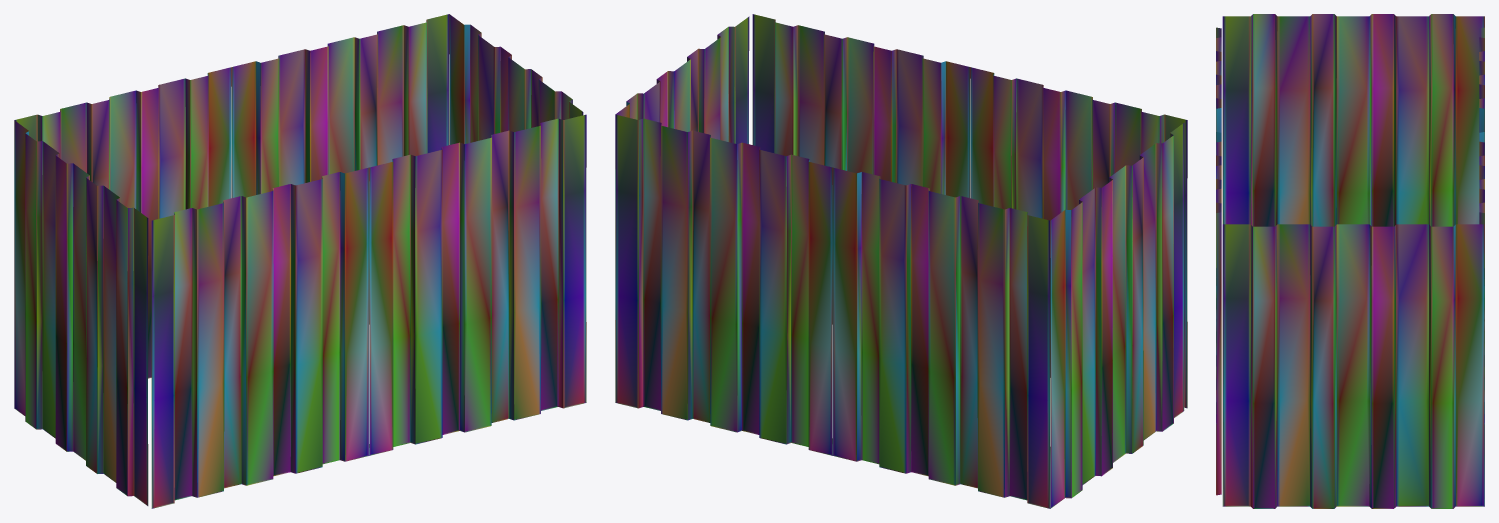
File: Yellow_Container_Walls.fbx
3 views of the same model, side by side, from view 1: azimuth 30°, elevation 25°; view 2: azimuth 150°, elevation 25°; view 3: azimuth 270°, elevation 25° (orthographic). The views are drawn at different scales.
Parts seen in each view (by area): view 1: Container_Back_MAT01_0.003, Container_Back_MAT01_0.004; view 2: Container_Back_MAT01_0.003, Container_Back_MAT01_0.004; view 3: Container_Back_MAT01_0.004, Container_Back_MAT01_0.003.
Part boxes in pixels (x1,y1,x2,y2): Container_Back_MAT01_0.003: [14, 14, 586, 508]; Container_Back_MAT01_0.004: [14, 14, 583, 505]; Container_Back_MAT01_0.003: [615, 14, 1187, 508]; Container_Back_MAT01_0.004: [615, 16, 1184, 508]; Container_Back_MAT01_0.004: [1222, 14, 1484, 508]; Container_Back_MAT01_0.003: [1216, 27, 1484, 495].
Size of the model in its own units: 307 by 190 by 164.
